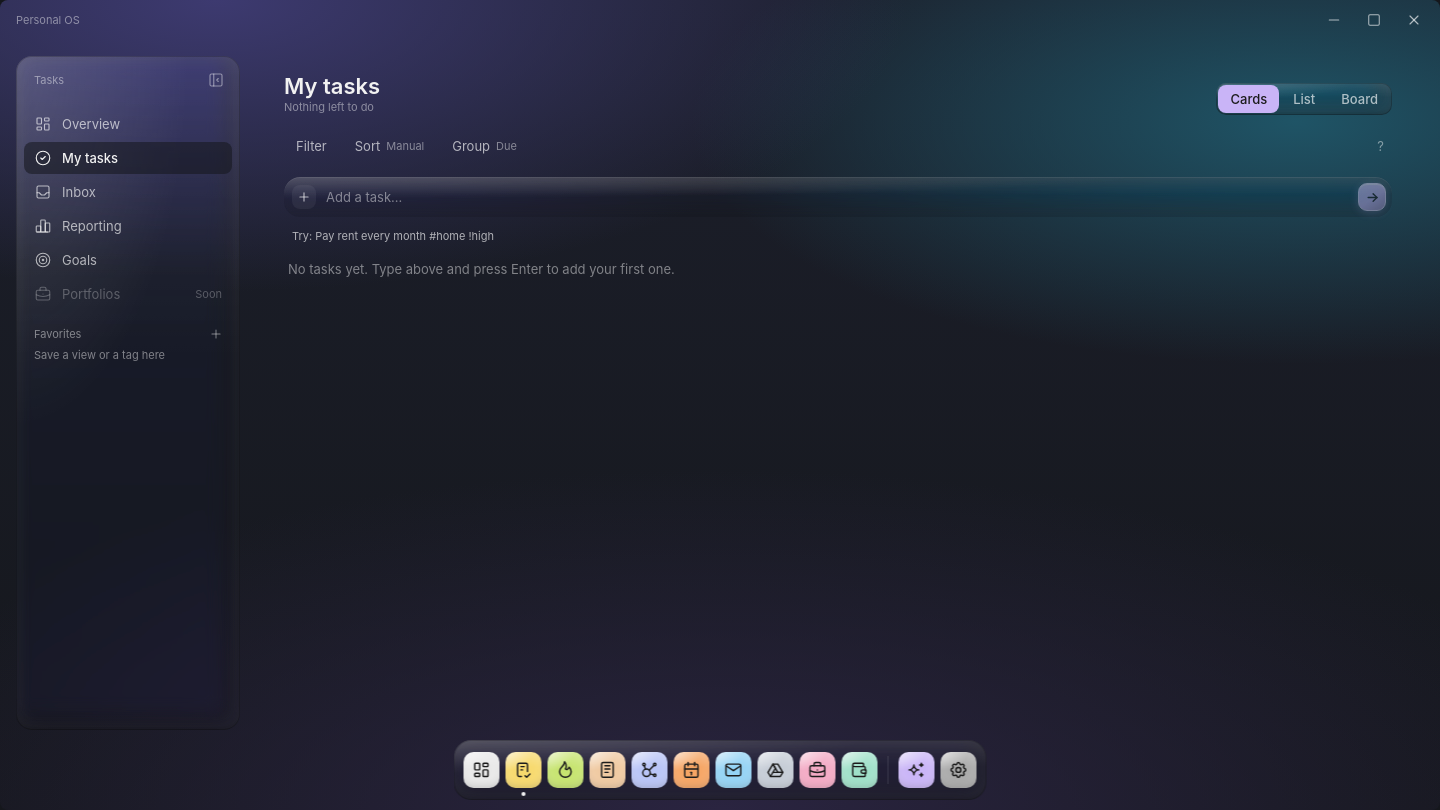
Test case: adding with understood parts › gives the text and the chips back when the server refuses
Expected: the text "No tasks yet" is shown, x1=288 y1=261 x2=675 y2=277
In the field named "New task": [837, 197] box x1=326 y1=177 x2=1348 y2=217, type "Pay rent all"
Then press Enter
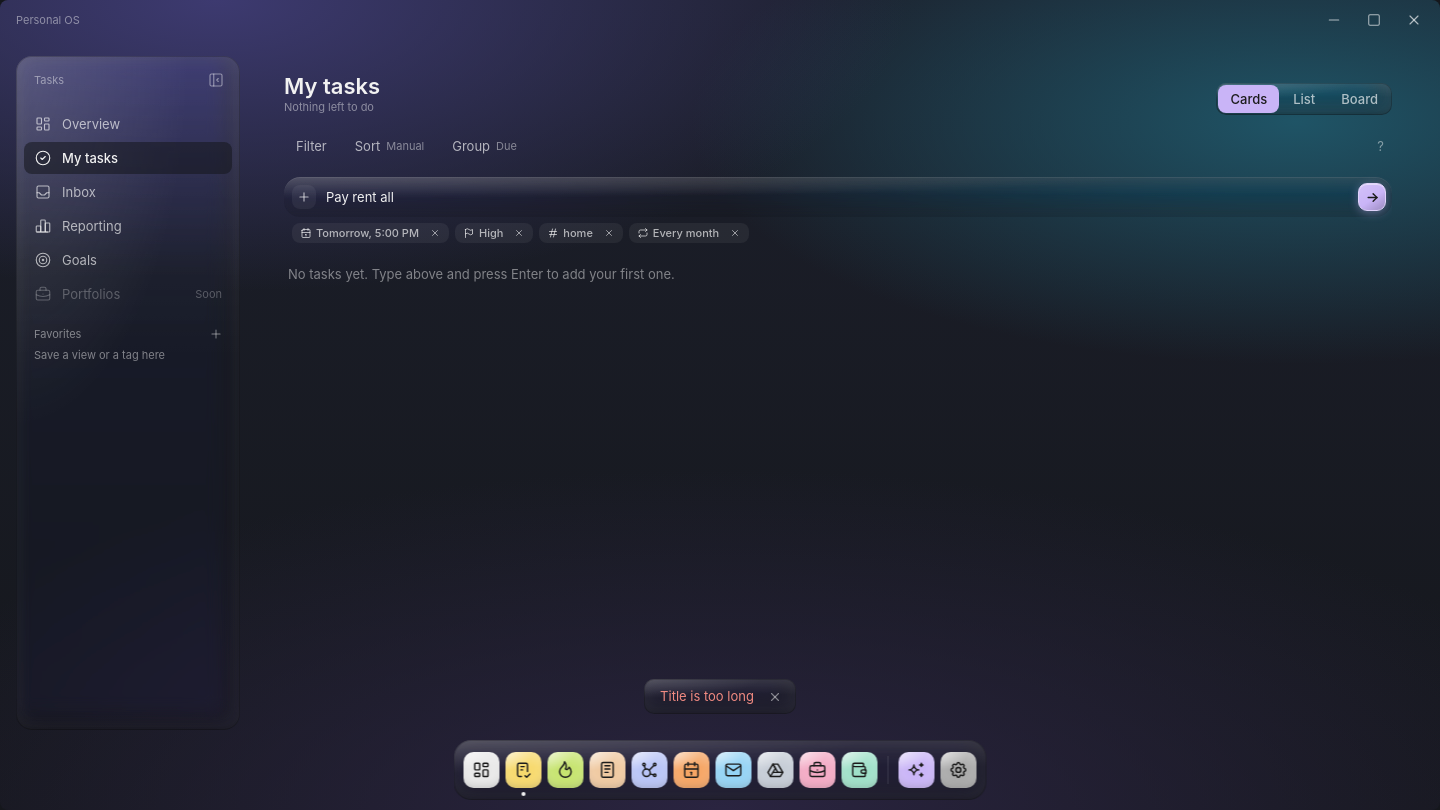
Expected: the text "Title is too long" is shown, x1=660 y1=687 x2=754 y2=706
Expected: the button named "Ignore !high" is shown, x1=507 y1=221 x2=531 y2=245
